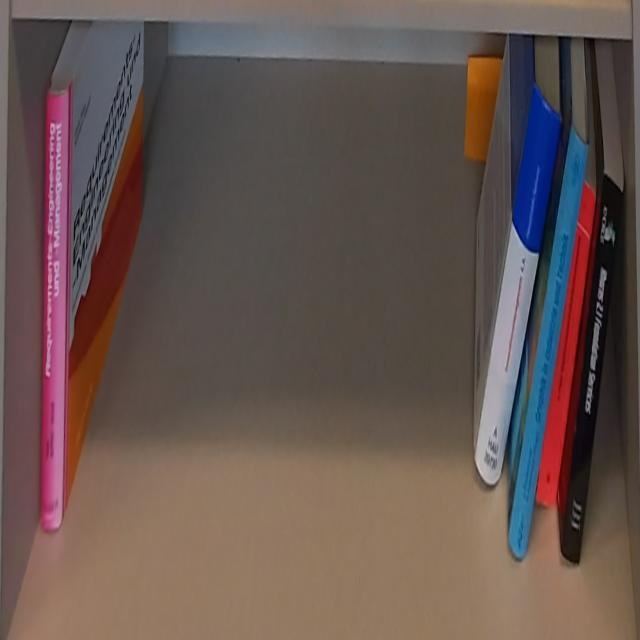Book Spine: (474, 84, 563, 485), (507, 125, 589, 560), (562, 174, 623, 565), (536, 180, 596, 510), (40, 91, 71, 533)
